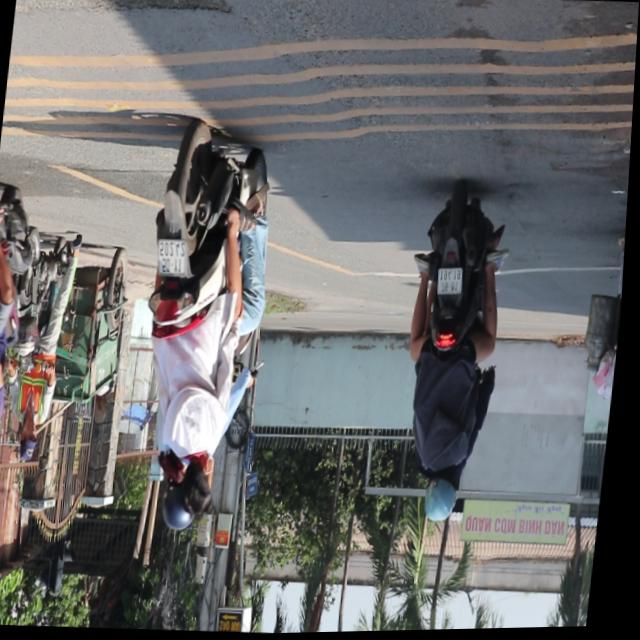helmet: (428, 470, 467, 529), (163, 482, 205, 535)
licenseplate: (124, 121, 291, 541), (388, 182, 521, 535), (1, 231, 85, 471), (0, 160, 45, 483), (597, 235, 629, 489)
motorcyclist: (184, 453, 222, 521), (22, 416, 45, 465)
nohelmet: (158, 240, 192, 279), (439, 271, 466, 299)
